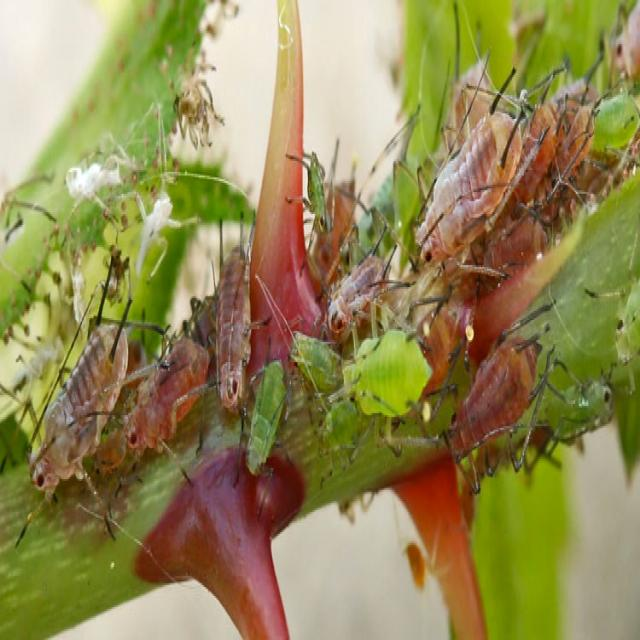Aphid-Grouped-: (14, 69, 623, 578)
Aphid-Grown-: (26, 312, 136, 515), (442, 302, 566, 480), (336, 328, 438, 451), (206, 218, 255, 416), (323, 231, 399, 354), (234, 346, 292, 488)
